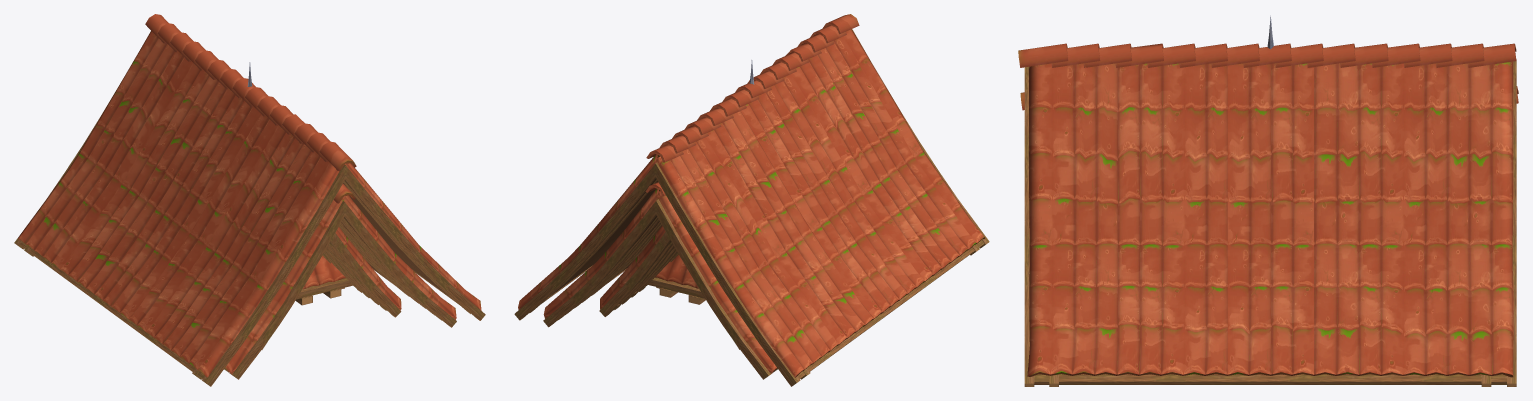
Rendered from kit_village.glb.
3 views of the same model, side by side, from view 1: azimuth 30°, elevation 25°; view 2: azimuth 150°, elevation 25°; view 3: azimuth 270°, elevation 25° (orthographic). The views are drawn at different scales.
Parts seen in each view (by area): view 1: Roof_RoundTiles_8x10, Roof_RoundTiles_6x10, Roof_RoundTiles_4x8, Roof_Tower_RoundTiles, Roof_RoundTiles_6x8; view 2: Roof_RoundTiles_8x10, Roof_RoundTiles_6x10, Roof_RoundTiles_4x8, Roof_Tower_RoundTiles, Roof_RoundTiles_6x8; view 3: Roof_RoundTiles_8x10.
Part boxes in pixels (x1=…): Roof_RoundTiles_8x10: x1=14, y1=14, x2=485, y2=386; Roof_RoundTiles_6x10: x1=224, y1=184, x2=456, y2=379; Roof_RoundTiles_4x8: x1=262, y1=227, x2=401, y2=349; Roof_Tower_RoundTiles: x1=247, y1=62, x2=353, y2=305; Roof_RoundTiles_6x8: x1=340, y1=220, x2=434, y2=315; Roof_RoundTiles_8x10: x1=514, y1=14, x2=989, y2=386; Roof_RoundTiles_6x10: x1=543, y1=182, x2=777, y2=379; Roof_RoundTiles_4x8: x1=599, y1=225, x2=739, y2=349; Roof_Tower_RoundTiles: x1=647, y1=60, x2=754, y2=304; Roof_RoundTiles_6x8: x1=566, y1=219, x2=660, y2=314; Roof_RoundTiles_8x10: x1=1018, y1=43, x2=1516, y2=386.
Bounding box in the file's own units: 9.95 × 8.91 × 11.91.
Materials: 9 (8 with a texture image).
